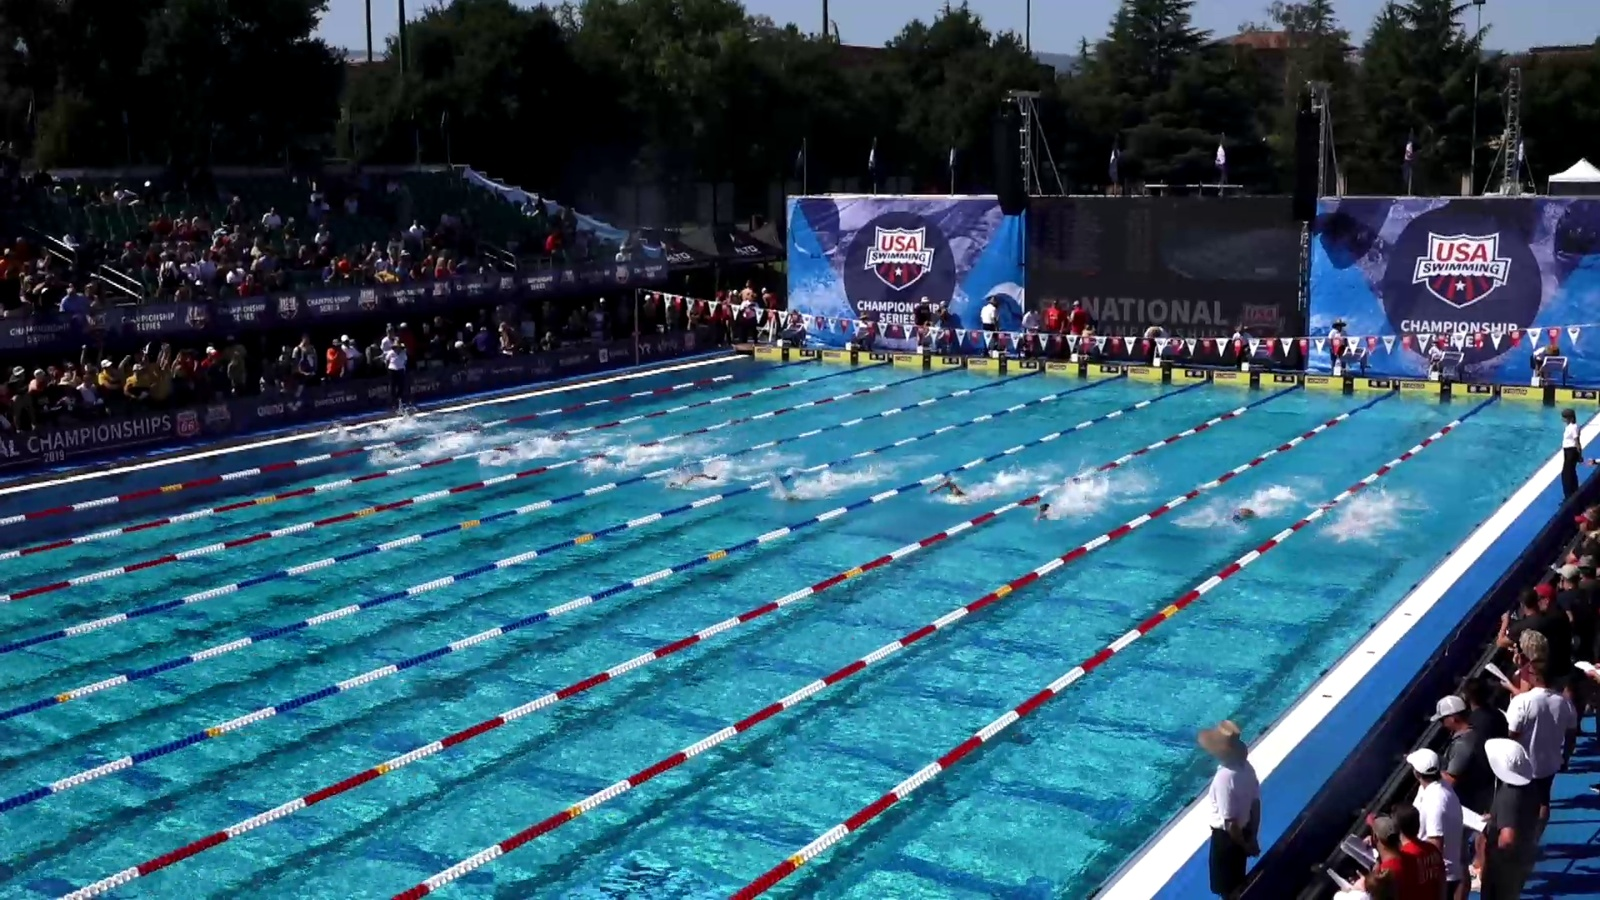swimmerw: (930, 468, 1000, 505), (1033, 488, 1095, 527), (1333, 504, 1388, 544), (1225, 496, 1277, 530), (767, 479, 843, 501), (667, 470, 729, 491), (592, 456, 655, 476), (362, 421, 416, 442), (487, 448, 544, 466), (386, 447, 434, 466)
